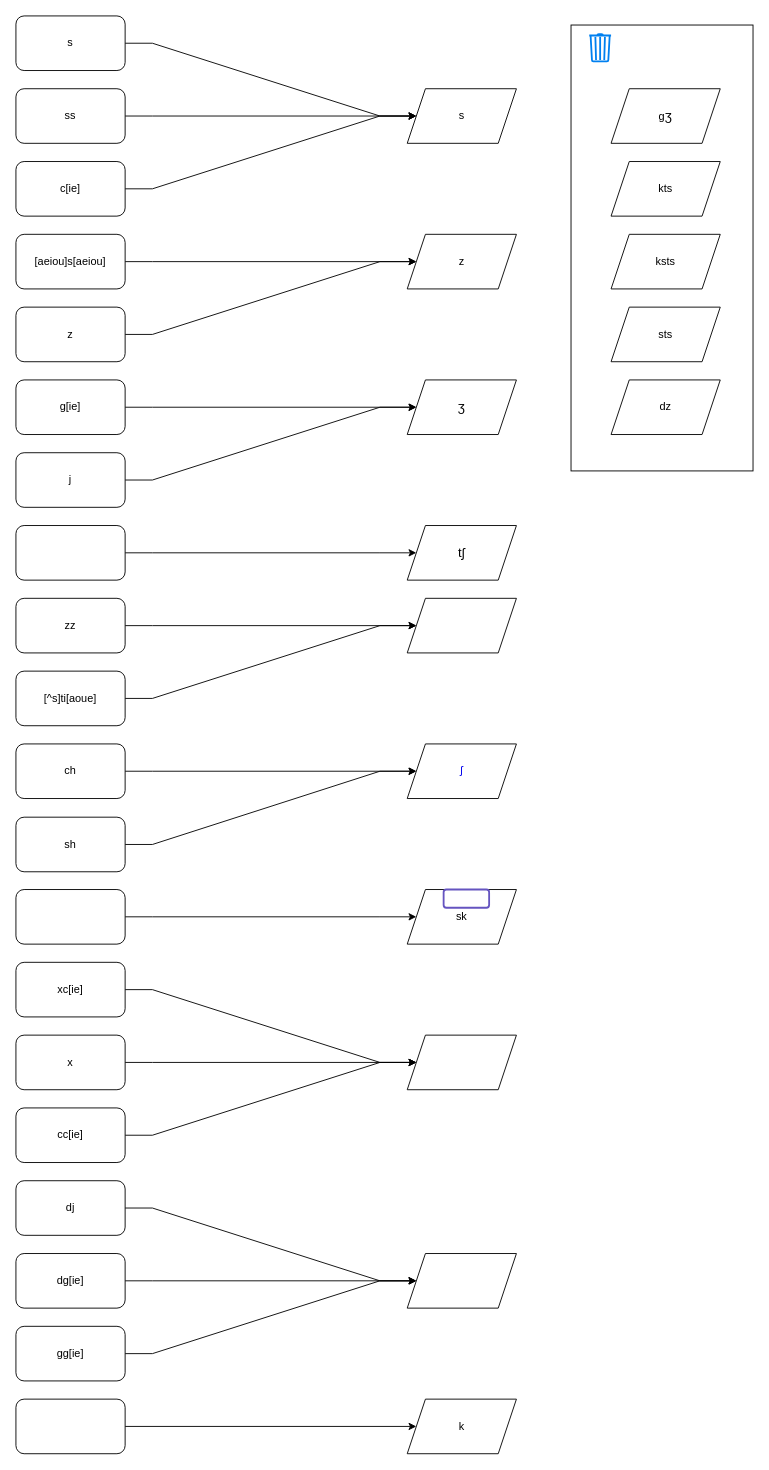
This 769x1470 diagram has some shape labels left out. The centre of each missing label's shape, as x and y in pixels:
dʒ: point 461,1280
ks: point 461,1062
NEW: point 466,898
qu[ie]: point 70,1426
sc[ie]: point 70,916
tch: point 70,552
ts: point 461,625
